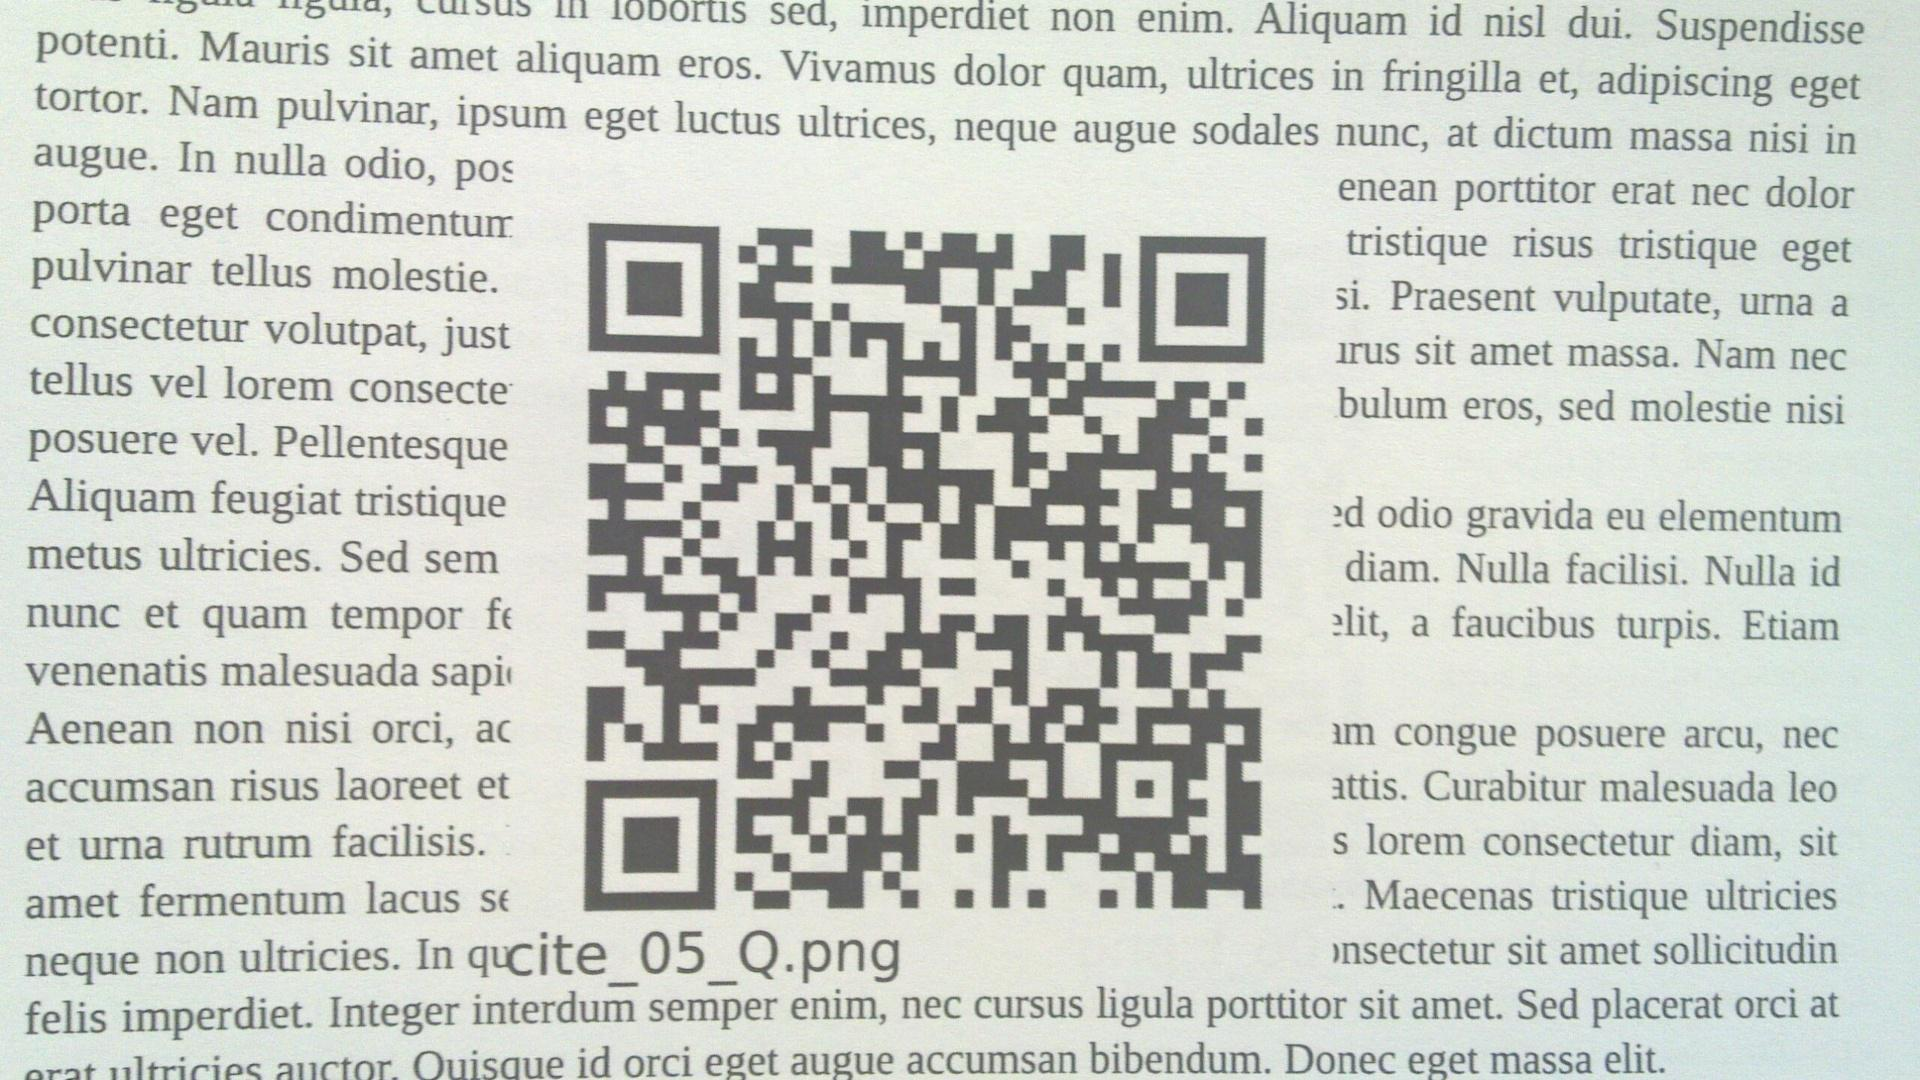Finder pattern: (576, 773, 727, 916), (582, 215, 728, 357), (1133, 229, 1270, 371)
